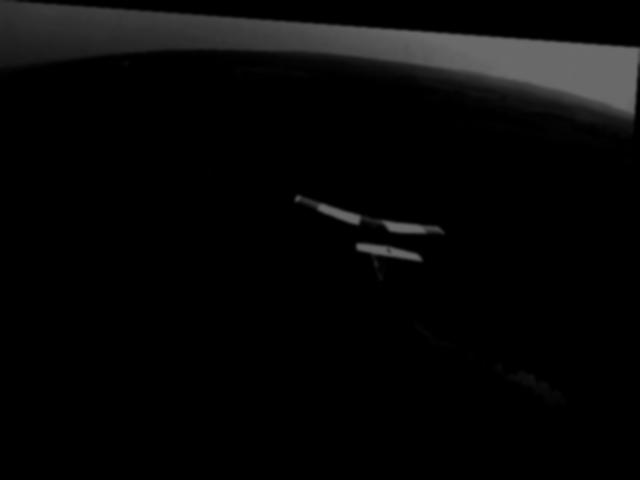hedef: (283, 175, 457, 287)
